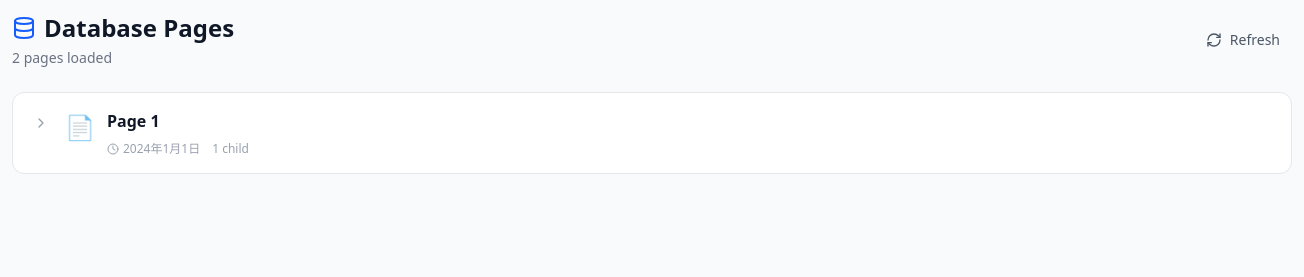
Test case: PageList › should expand child pages when clicking expand button
This screenshot has width=1304, height=277.
Expected: the heading "Page 1" is shown, [107,110,160,132]
What coordinates should you click on to do the following:
click the 2nd button
I would click on:
 (41, 123)
Its box is [29,111,53,135].
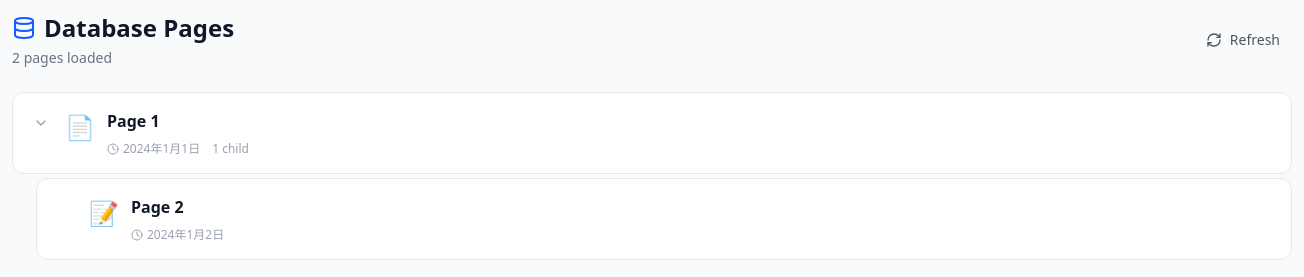
Now the heading "Page 2" is shown, box [131,196,184,218]
